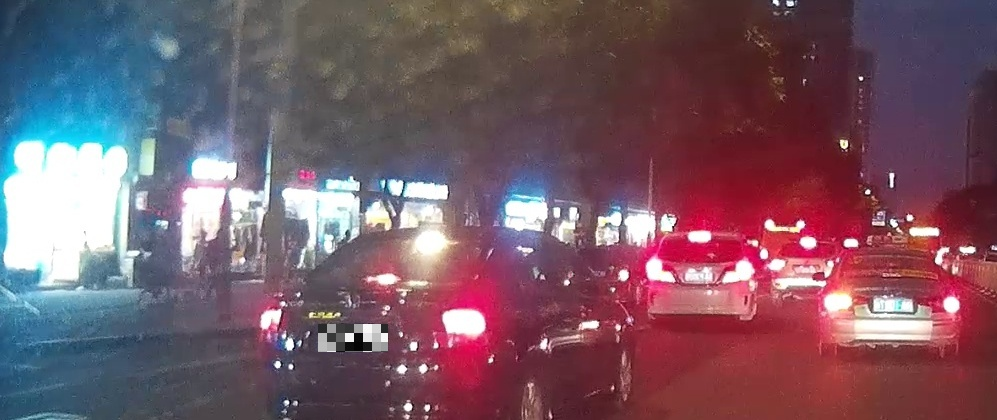L_light: (823, 292, 867, 312), (259, 306, 286, 334), (646, 259, 676, 283)
R_light: (442, 308, 486, 340), (917, 294, 960, 315), (722, 260, 755, 284)
T_light: (363, 273, 402, 285), (688, 231, 710, 243), (884, 254, 906, 259)
night-brake: (259, 226, 497, 420), (644, 230, 756, 329)
night-left: (818, 248, 961, 358)
plate_1: (318, 324, 388, 352)
